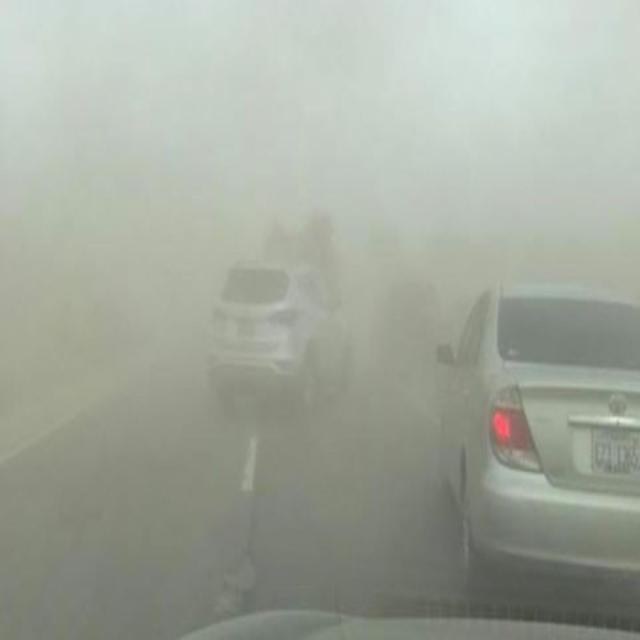car: (449, 282, 639, 579), (203, 259, 352, 411)
